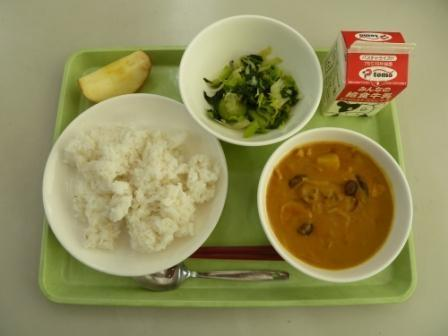Apple: (72, 38, 155, 103)
Curry: (268, 140, 404, 271)
Milk: (320, 20, 420, 120)
Rice: (52, 115, 209, 250)
Salad: (187, 31, 297, 139)
